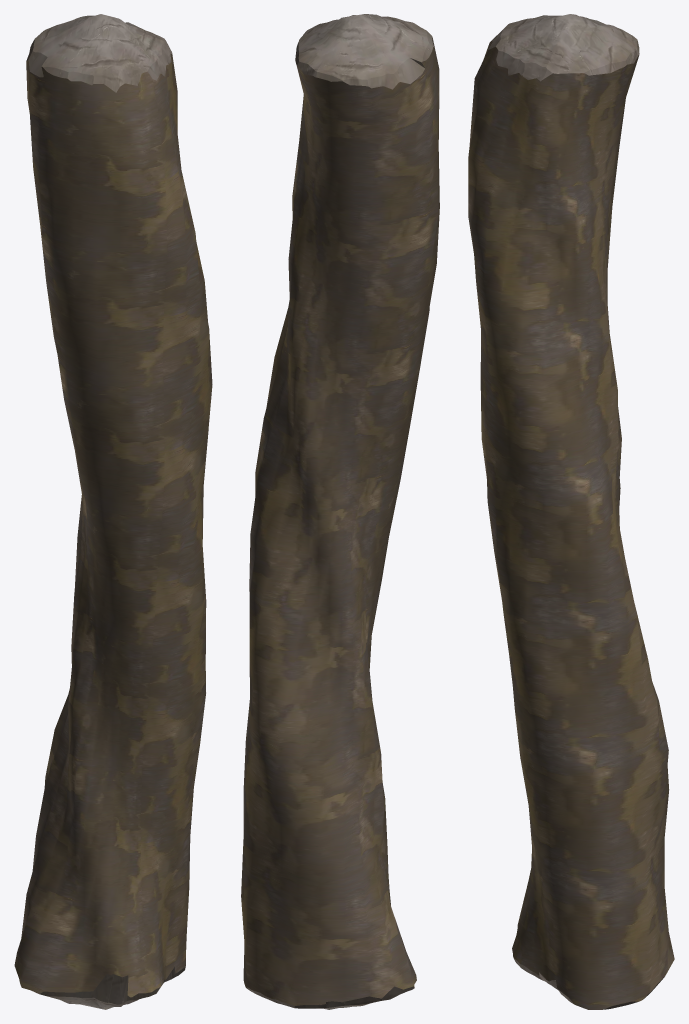
The picture shows the model from 3 angles, left to right: view 1: azimuth 30°, elevation 25°; view 2: azimuth 150°, elevation 25°; view 3: azimuth 270°, elevation 25°; orthographic projection. The views are drawn at different scales.
Parts seen in each view (by area): view 1: SM_Yew_03_tree_quarters_bottom_LOD0; view 2: SM_Yew_03_tree_quarters_bottom_LOD0; view 3: SM_Yew_03_tree_quarters_bottom_LOD0.
Boxes of the visible parts, box(x1,y1,x2,y2) form: SM_Yew_03_tree_quarters_bottom_LOD0: box(14, 14, 212, 1009); SM_Yew_03_tree_quarters_bottom_LOD0: box(241, 14, 439, 1009); SM_Yew_03_tree_quarters_bottom_LOD0: box(468, 14, 674, 1009).
Size of the model in its own units: 0.9199 by 5.23 by 1.
Materials: 1 (1 with a texture image).
